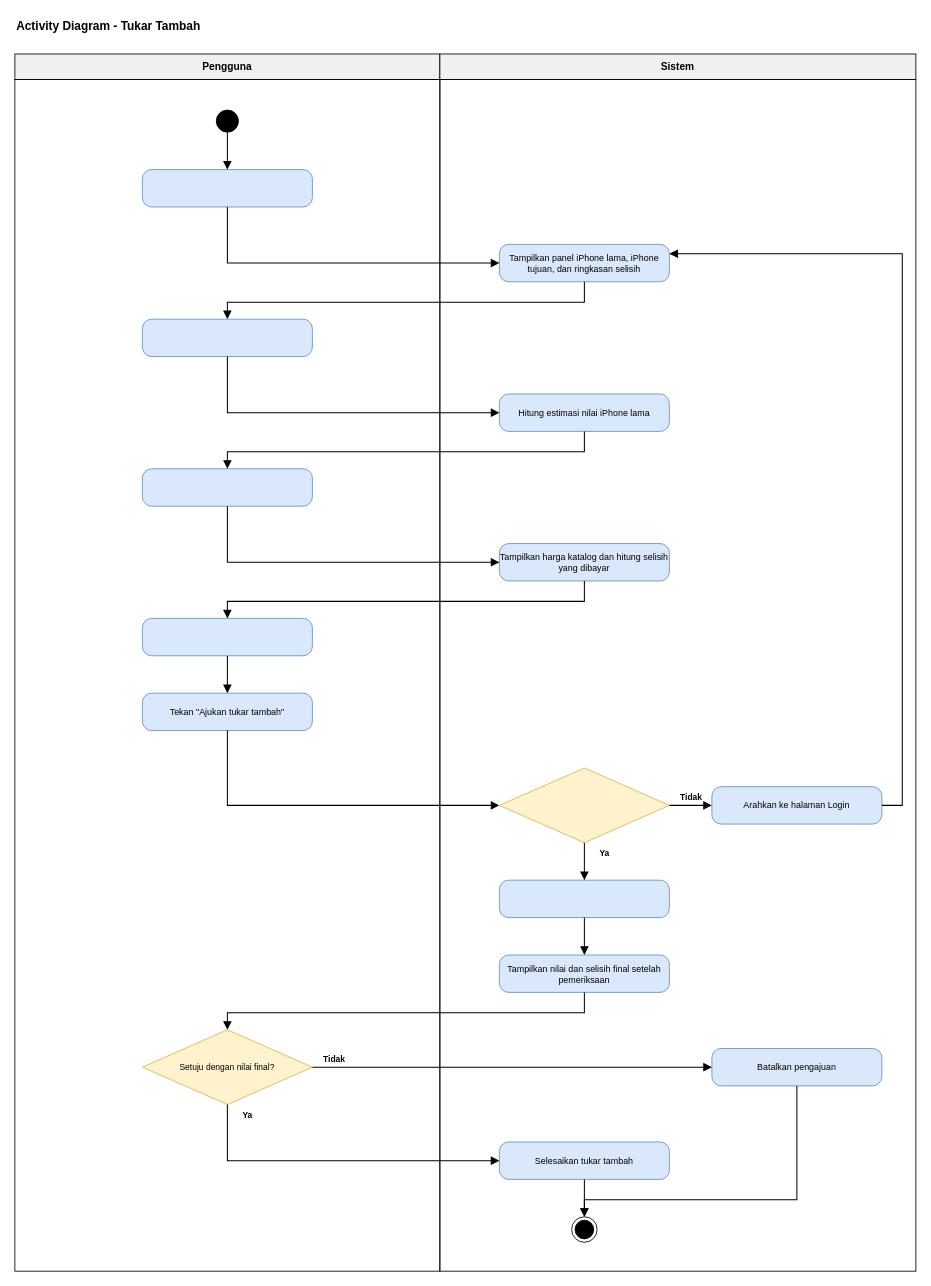
Some shapes in this 931 by 1286 pixel diagram are drawn without their labels. The shapes that lost their labels are listed below. From the top down, each one's centre as x and y in pixels, then its label:
the point at 227,188: Buka menu Tukar Tambah
the point at 227,337: Isi data iPhone lama (model, kapasitas, kondisi, battery health)
the point at 227,487: Pilih iPhone tujuan
the point at 227,637: Pilih lokasi, tanggal, dan waktu pemeriksaan
the point at 584,805: Sudah login?
the point at 584,898: Simpan pengajuan beserta estimasi
